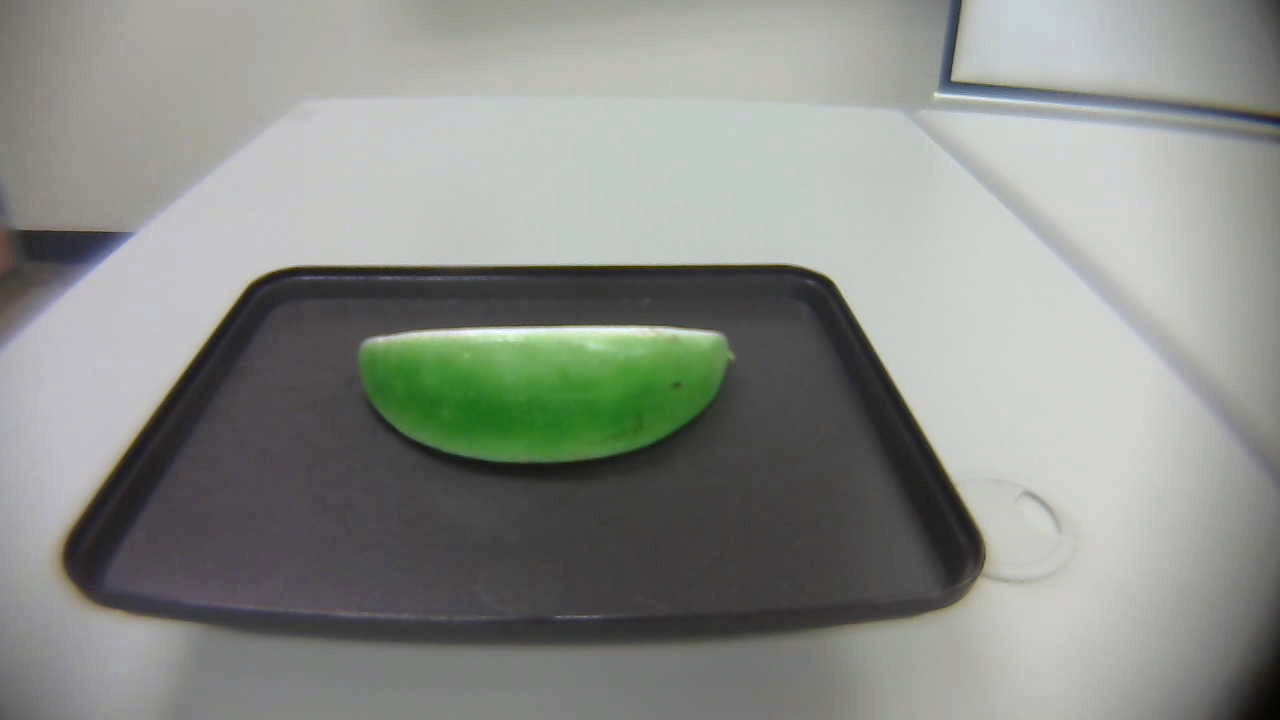water melon: (344, 318, 741, 476)
